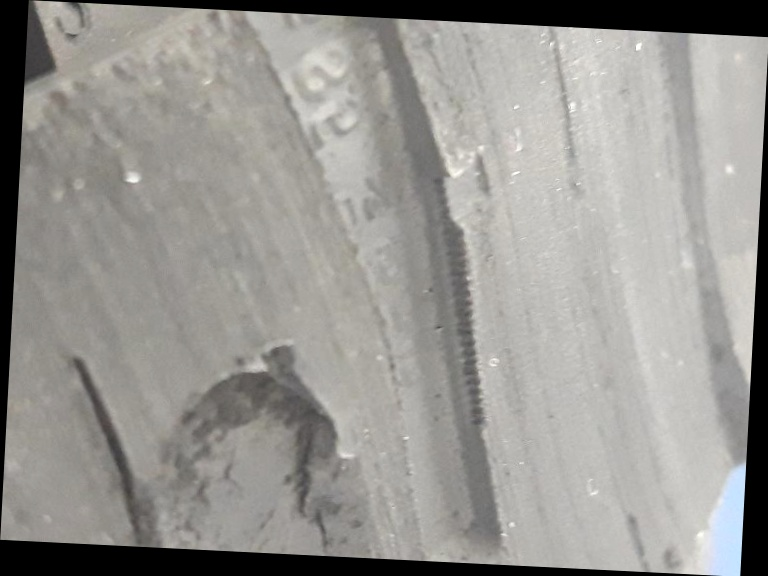temoin:0: (417, 140, 517, 251)
